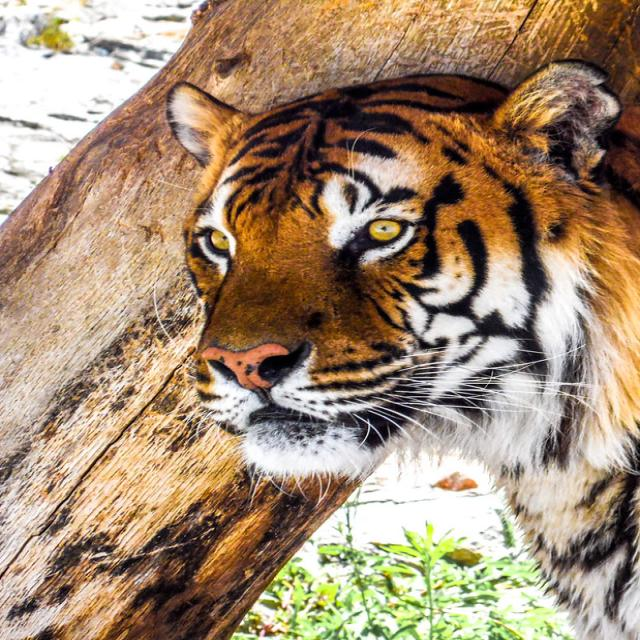Tiger: (150, 55, 636, 640)
